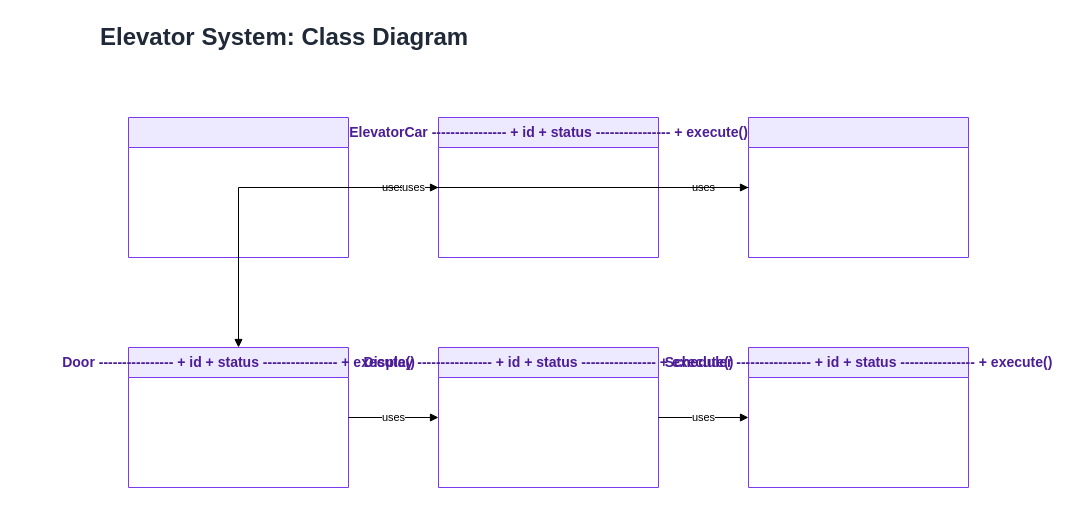
Image size: 1070x505. Some labels were removed from this diagram. The centre of each missing label's shape, as x and y in pixels:
"ElevatorController ---------------- + id + status ---------------- + execute()" goes at pixel 238 187.
"Request ---------------- + id + status ---------------- + execute()" goes at pixel 858 187.
